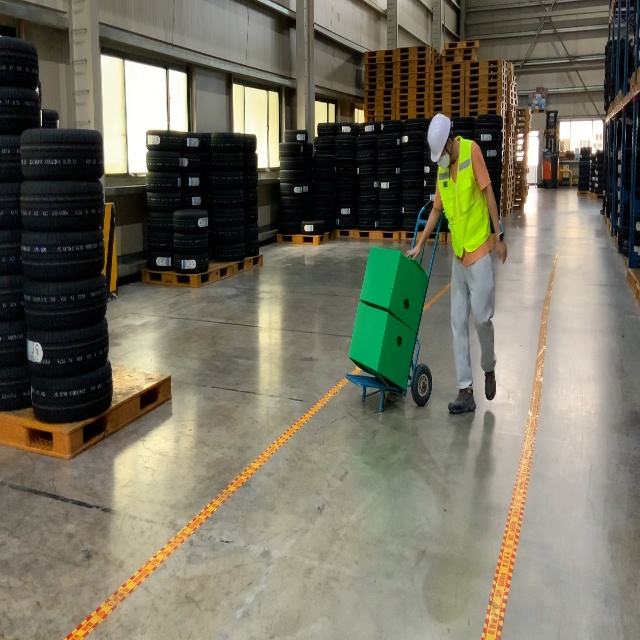Box: (359, 245, 429, 333), (348, 301, 417, 390)
Worker: (404, 112, 508, 415)
